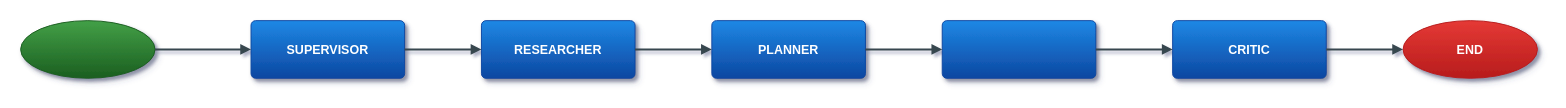
Some shapes in this 1566 by 108 pixel diagram are drawn without their labels. The shapes that lost their labels are listed below. From the top down, each one's centre as x and y in pixels, then its label:
At (88,50): "START".
At (1019,50): "EXECUTE".
